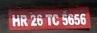2: (29, 13, 38, 26)
5: (61, 12, 69, 26), (74, 13, 81, 26)
6: (67, 12, 75, 26), (37, 13, 44, 27), (79, 13, 87, 25)
C: (52, 13, 60, 26)
H: (11, 14, 21, 27)
R: (21, 14, 29, 27)
T: (45, 13, 53, 27)
